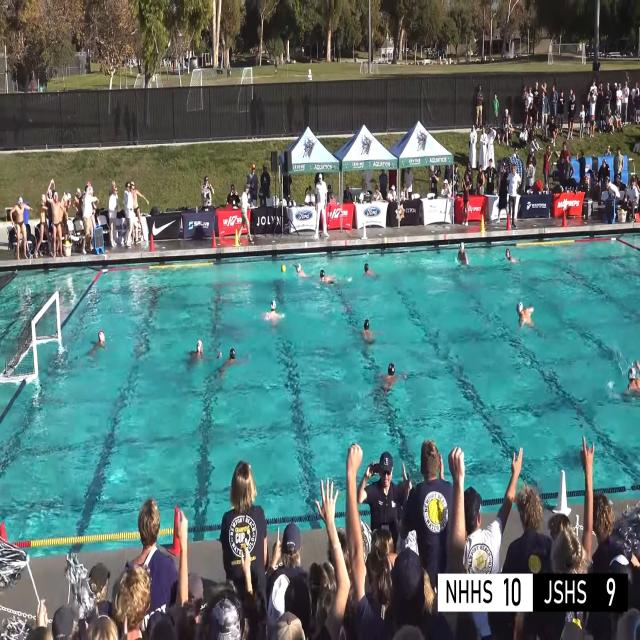ball: (281, 264, 286, 272), (64, 240, 70, 245)
